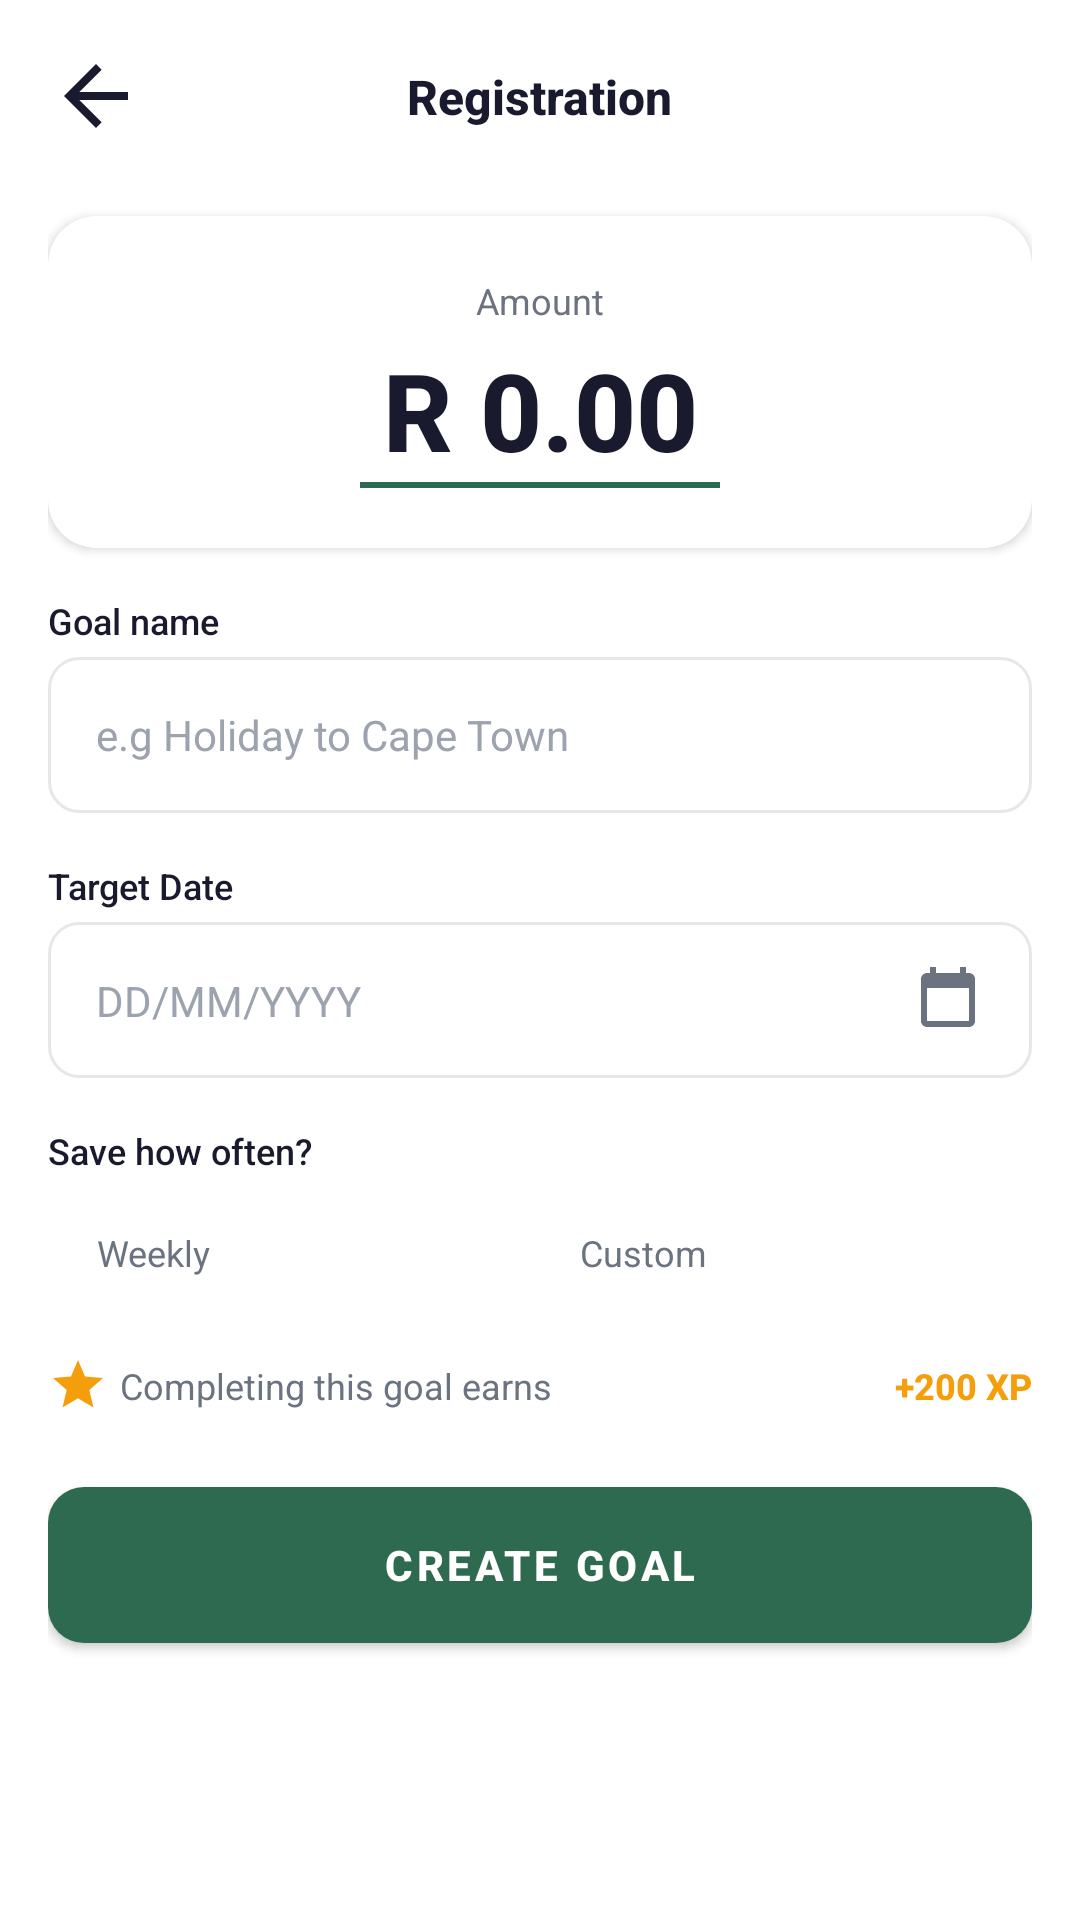

Point at icon controls on the screen. Image size 1080px×1920px, points as (x=x, y=y).
Back: (x=96, y=96)
calendar: (x=948, y=997)
star: (x=78, y=1384)
